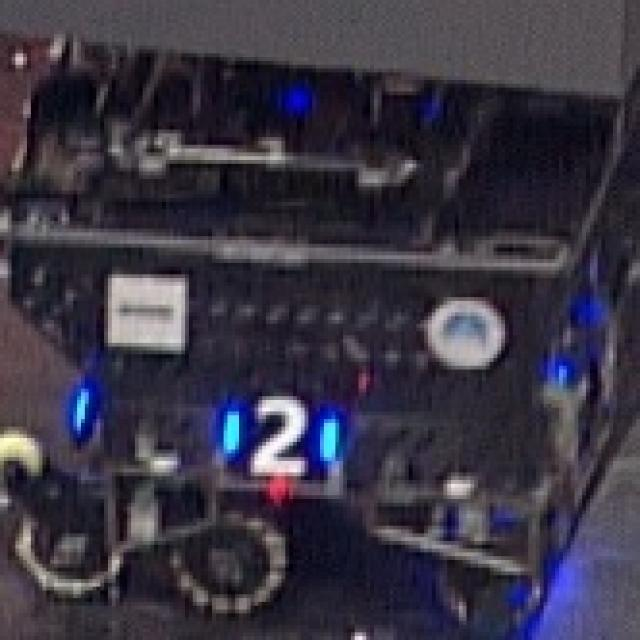B2: (214, 385, 341, 480)
